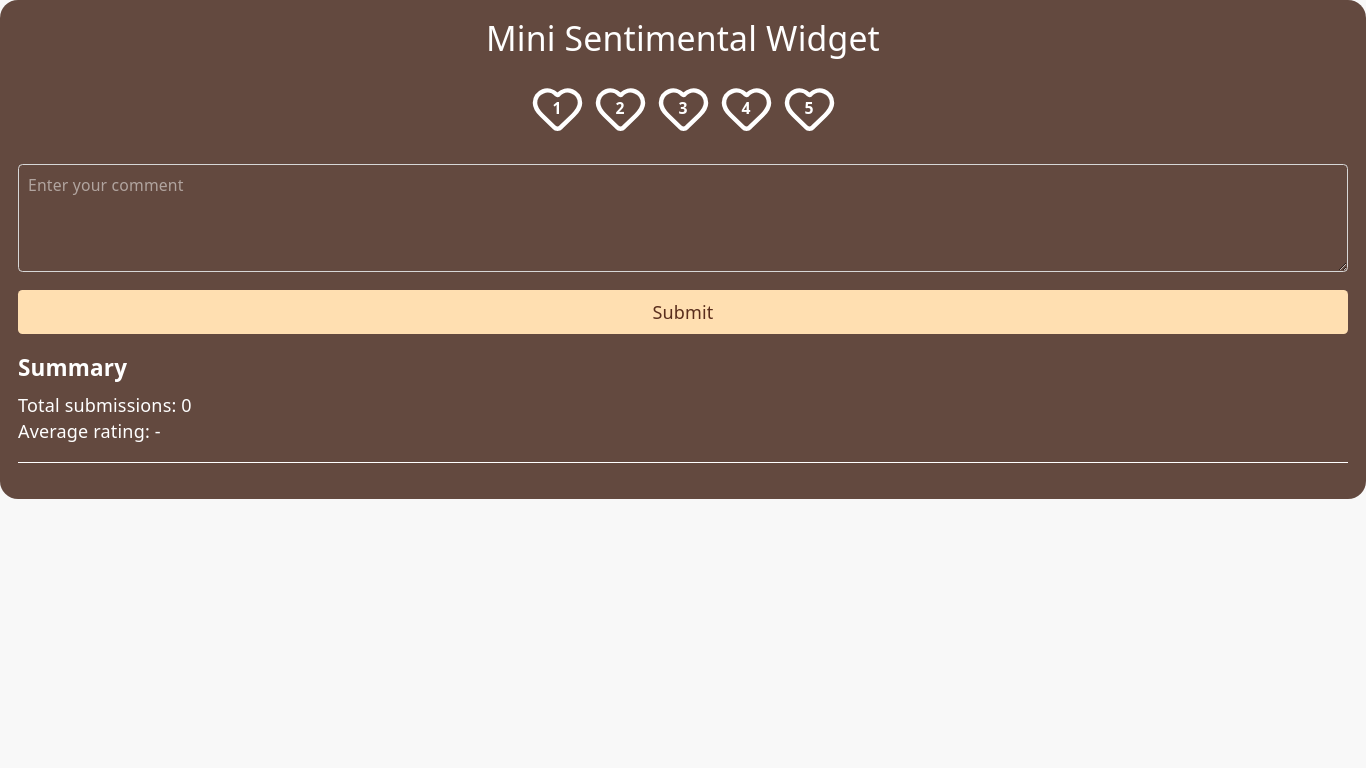
Test: SentimentalWidget › shows validation error when submitted without rating
Type "Nice widget" into the text box with placeholder "Enter your comment" at (683, 218), box 18,164 -> 1348,272
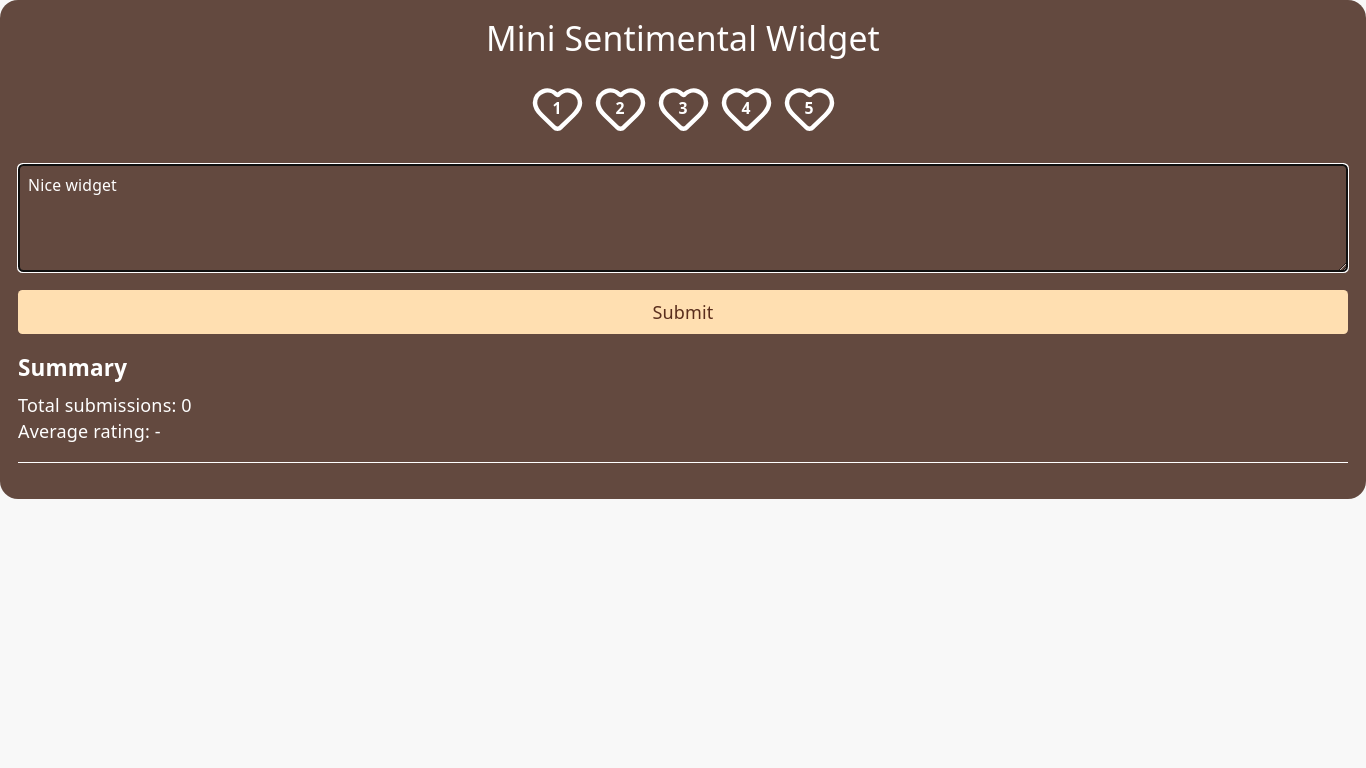
Click the button "Submit" at (683, 312), box 18,290 -> 1348,334
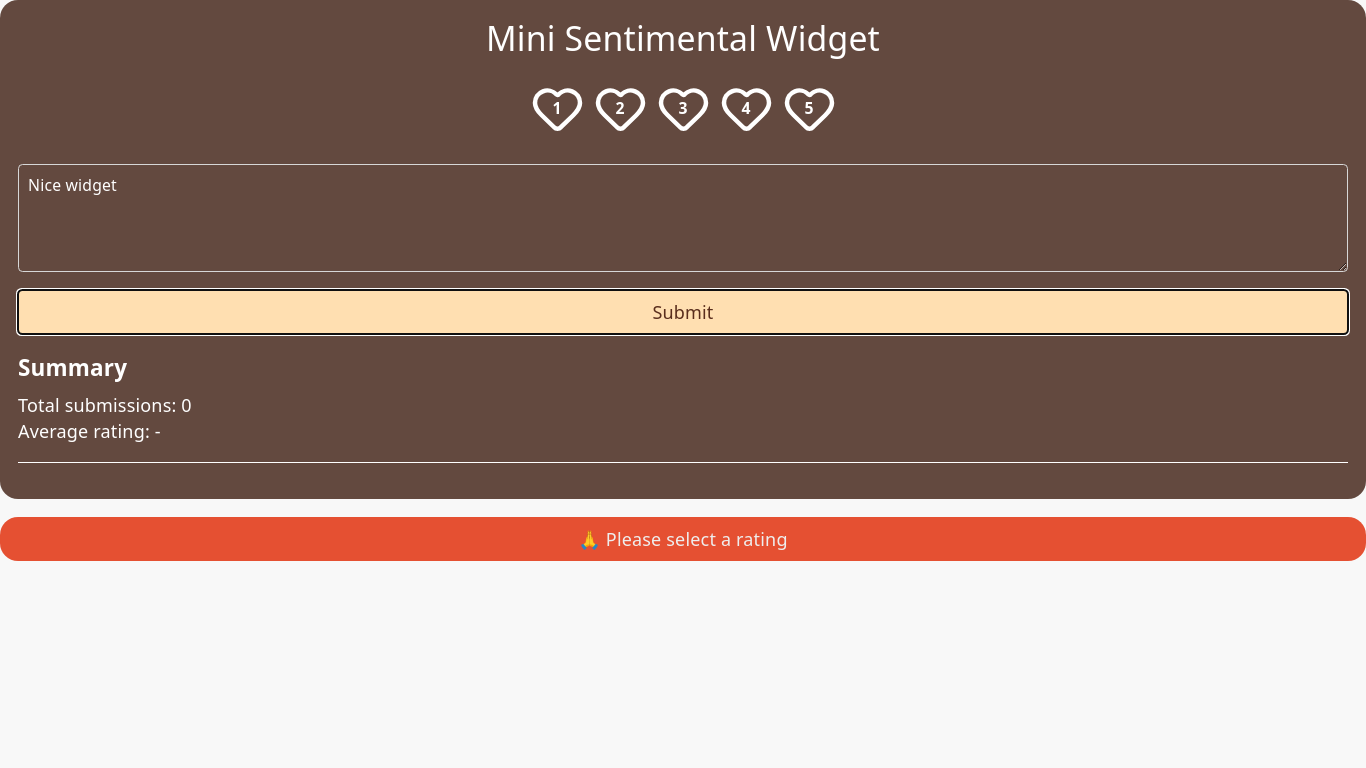
Result: the text "🙏 Please select a rating" is shown at 0,517 -> 1365,562
